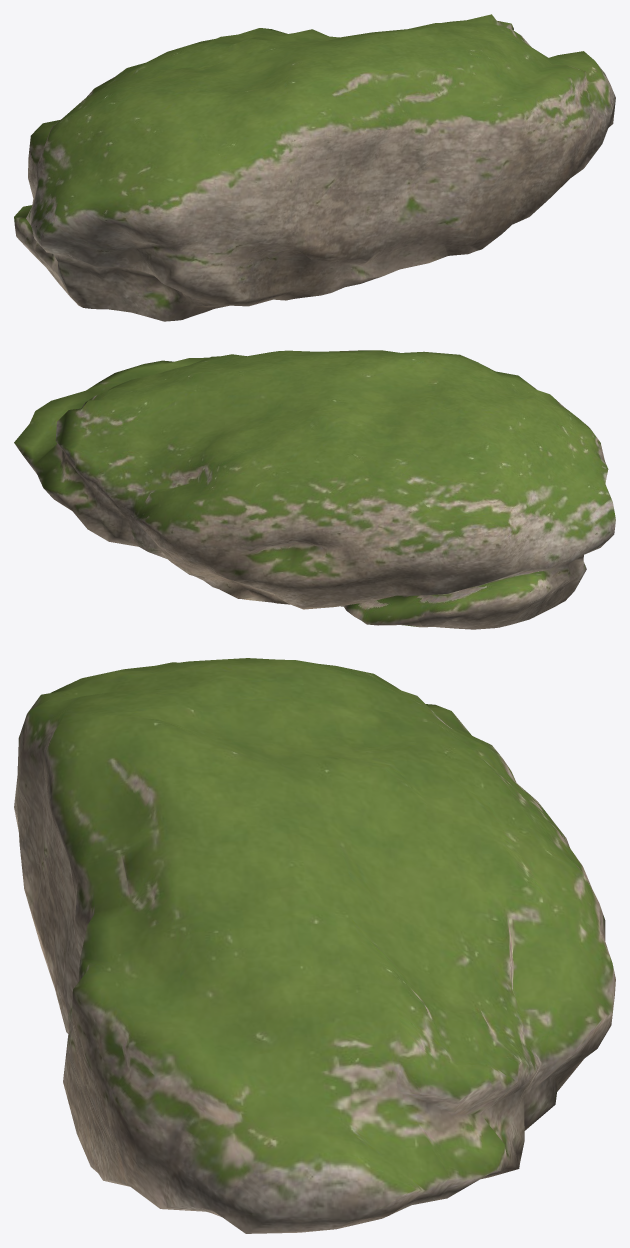
The model's file is fels-4.glb.
3 views of the same model, one above another, from view 1: azimuth 30°, elevation 25°; view 2: azimuth 150°, elevation 25°; view 3: azimuth 270°, elevation 25° (orthographic). The views are drawn at different scales.
Parts seen in each view (by area): view 1: fels-4; view 2: fels-4; view 3: fels-4.
Boxes of the visible parts, box(x1,y1,x2,y2) form: fels-4: box(14, 14, 615, 321); fels-4: box(14, 350, 615, 629); fels-4: box(14, 658, 615, 1233).
Size of the model in its own units: 2.09 by 0.6604 by 1.14.
1 material, 1 textured.
